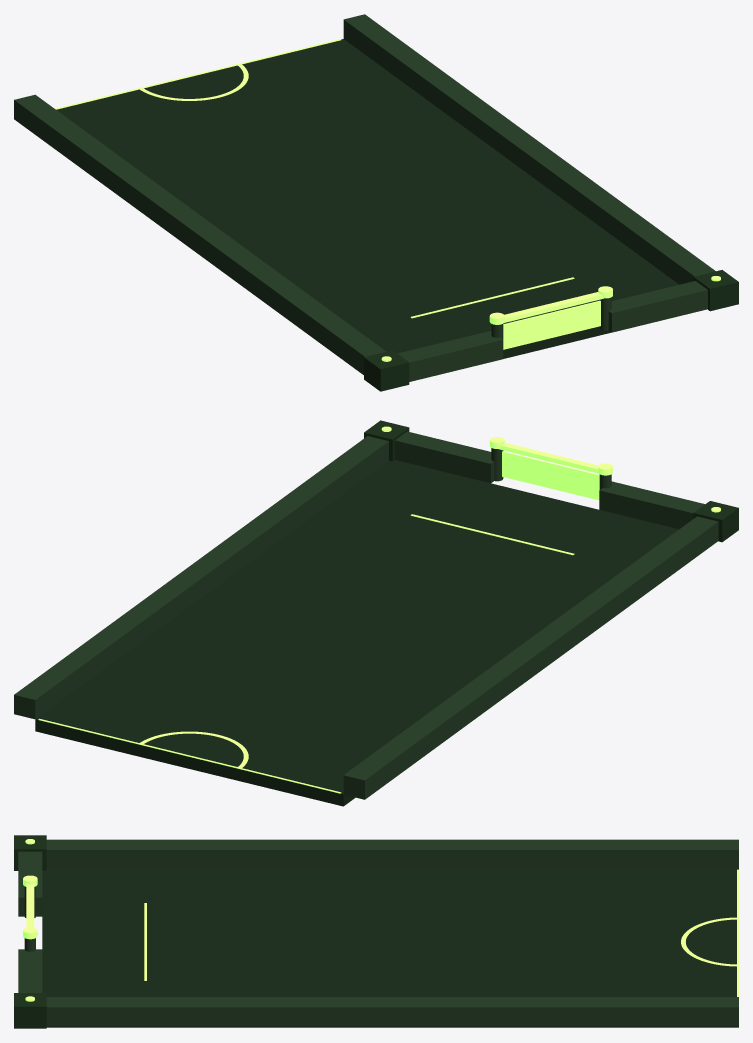
The model's file is mesa_cyber_pong_half_p1.glb.
3 renders of one model, top to bottom at view 1: azimuth 30°, elevation 25°; view 2: azimuth 150°, elevation 25°; view 3: azimuth 270°, elevation 25°, orthographic. The views are drawn at different scales.
Visible parts, largest first — view 1: PongHalfP1_Surface, PongHalfP1_RailL, PongHalfP1_RailR, Cube.004, Cube.002, Cube.009, Cube.006, Cube.007, Cube.008, PongHalfP1_TopEdgeLaser; view 2: PongHalfP1_Surface, PongHalfP1_RailL, PongHalfP1_RailR, Cube.004, Cube.002, Cube.009, Cube.006, Cube.008, Cube.007, PongHalfP1_TopEdgeLaser; view 3: PongHalfP1_Surface, PongHalfP1_RailL, PongHalfP1_RailR, Cube.002, Cube.007, Cube.004, Cube.006, PongHalfP1_CenterArcOuter, Cube.008.
Boxes of the visible parts, <box> form: PongHalfP1_Surface: <box>56,39,678,358</box>; PongHalfP1_RailL: <box>14,94,385,374</box>; PongHalfP1_RailR: <box>343,14,715,284</box>; Cube.004: <box>608,281,707,332</box>; Cube.002: <box>397,331,503,381</box>; Cube.009: <box>503,300,600,349</box>; Cube.006: <box>364,350,409,391</box>; Cube.007: <box>693,270,738,311</box>; Cube.008: <box>504,292,603,322</box>; PongHalfP1_TopEdgeLaser: <box>55,39,341,109</box>; PongHalfP1_Surface: <box>35,460,678,806</box>; PongHalfP1_RailL: <box>343,516,718,799</box>; PongHalfP1_RailR: <box>14,436,388,719</box>; Cube.004: <box>395,431,494,483</box>; Cube.002: <box>599,481,704,529</box>; Cube.009: <box>502,451,599,500</box>; Cube.006: <box>693,501,738,542</box>; Cube.008: <box>499,442,598,473</box>; Cube.007: <box>364,420,409,461</box>; PongHalfP1_TopEdgeLaser: <box>38,718,341,793</box>; PongHalfP1_Surface: <box>42,869,738,1027</box>; PongHalfP1_RailL: <box>46,839,738,868</box>; PongHalfP1_RailR: <box>46,997,738,1026</box>; Cube.002: <box>18,851,42,916</box>; Cube.007: <box>14,993,46,1028</box>; Cube.004: <box>18,949,42,992</box>; Cube.006: <box>14,835,46,870</box>; PongHalfP1_CenterArcOuter: <box>681,917,736,966</box>; Cube.008: <box>26,884,34,927</box>.
Bounding box in the file's own units: 1.26 × 0.17 × 2.25.
